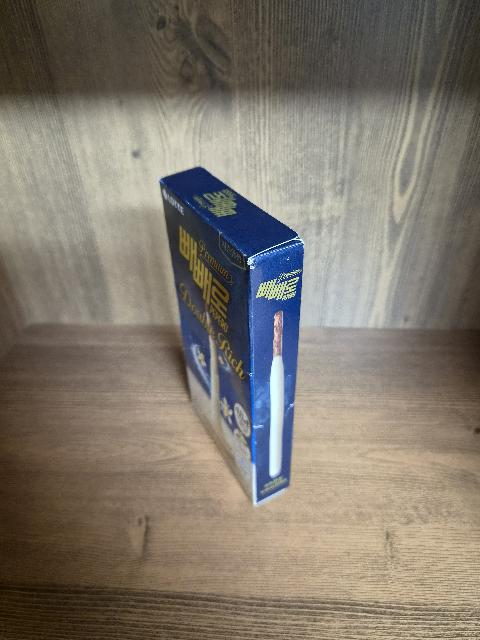pepero: (158, 166, 305, 507)
